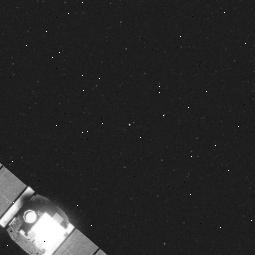soho: (0, 171, 81, 255)
